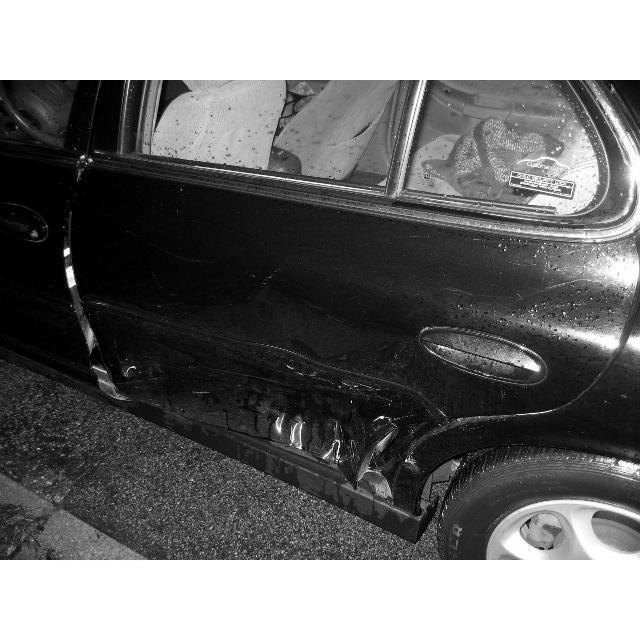doorouter-dent: (129, 209, 468, 471)
